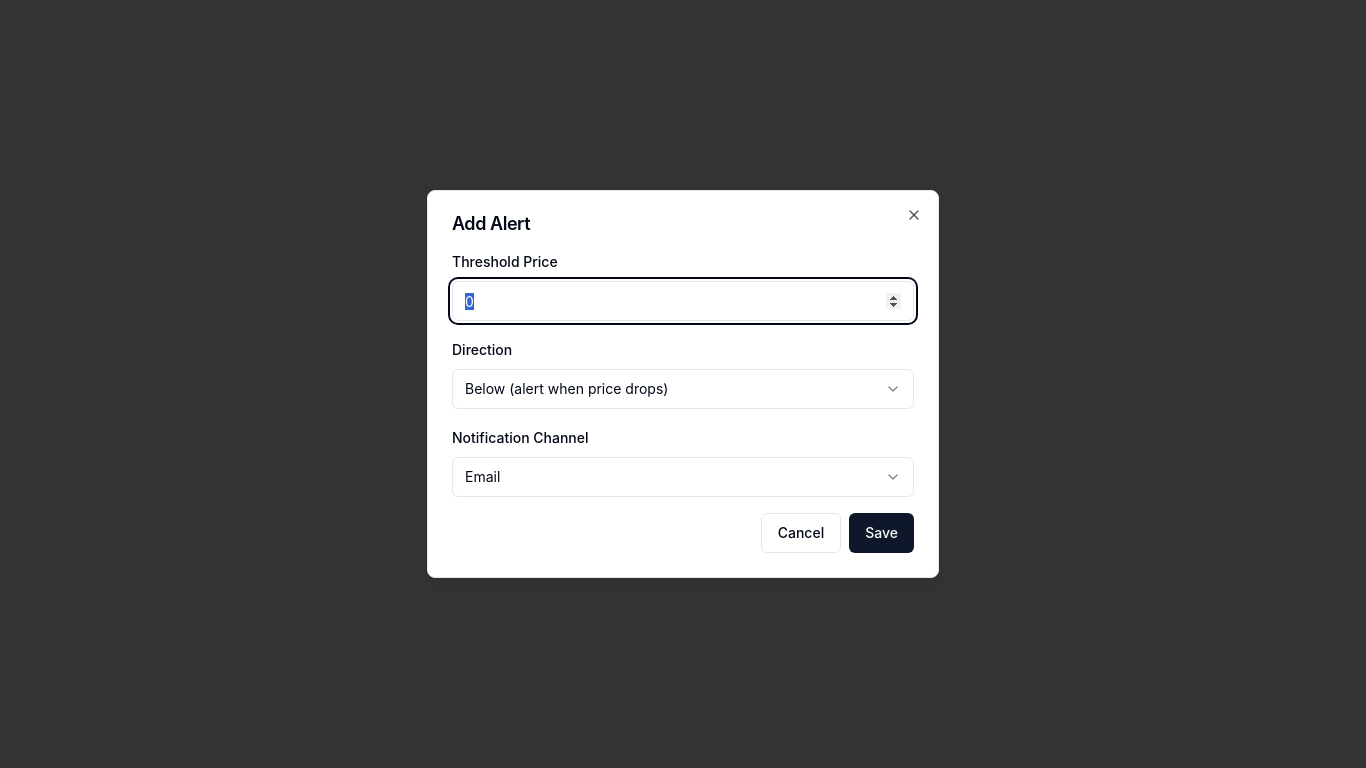
AlertFormDialog › webhook channel — blocks submit when webhook_url is empty
Click the dropdown labelled "Email" at (483, 476), box [452, 457, 914, 497]
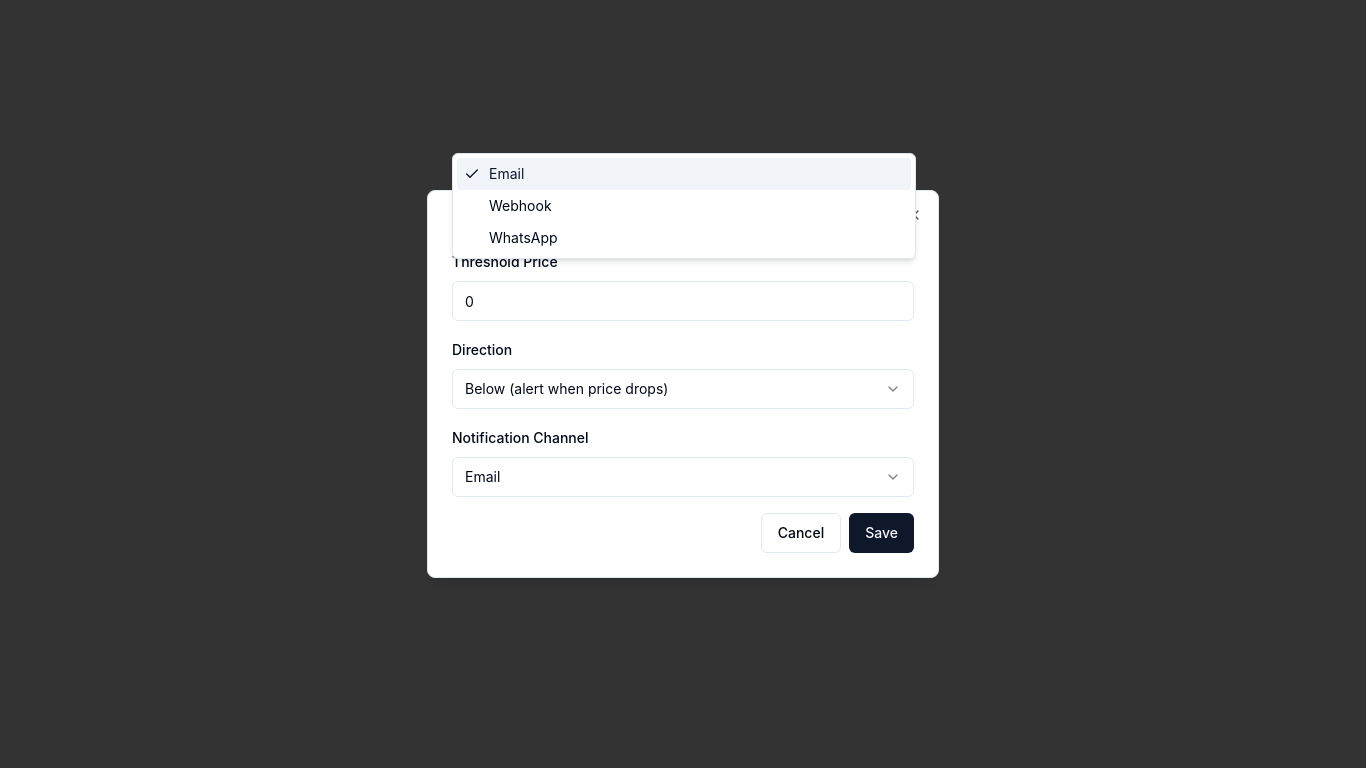
Click the option "Webhook" at (520, 206), box [489, 197, 552, 214]
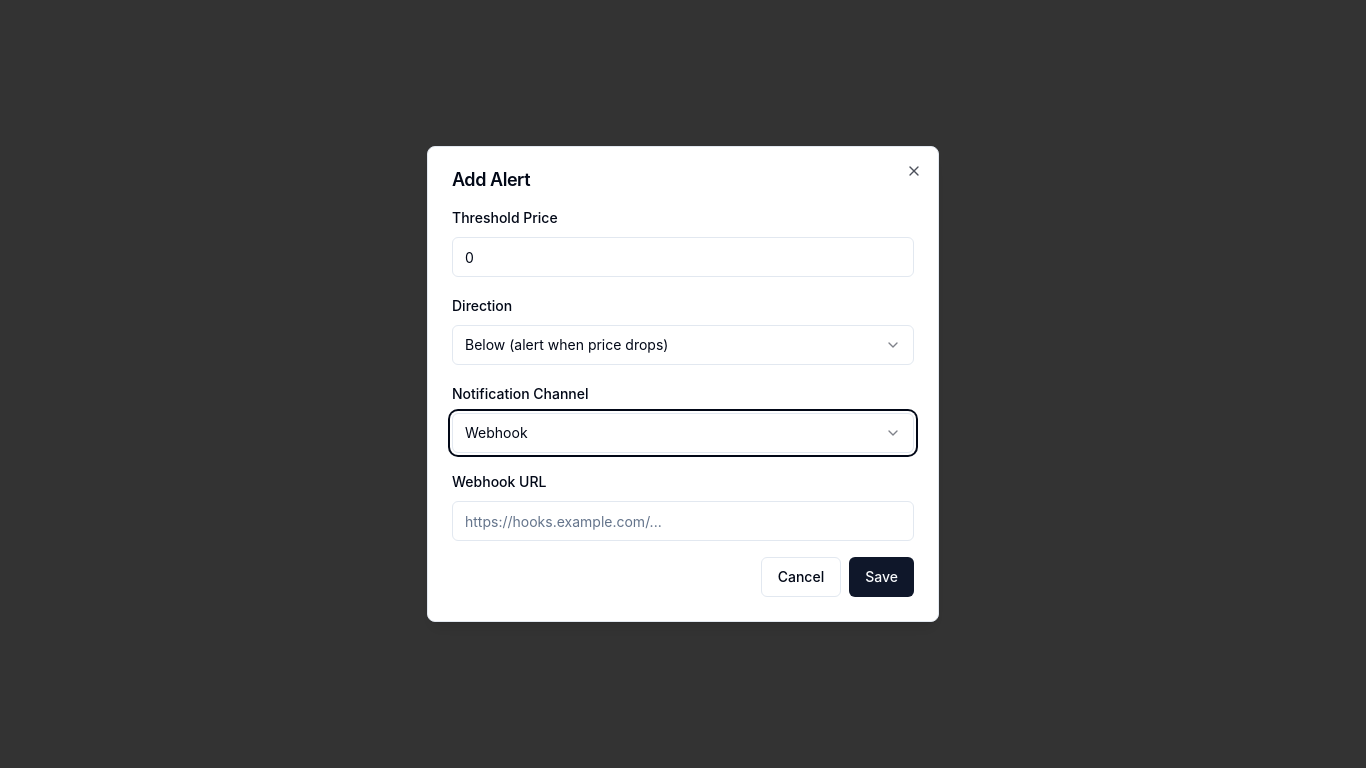
Replace the text in the number field with placeholder "9.99" with "10" at (683, 257), box [452, 237, 914, 277]
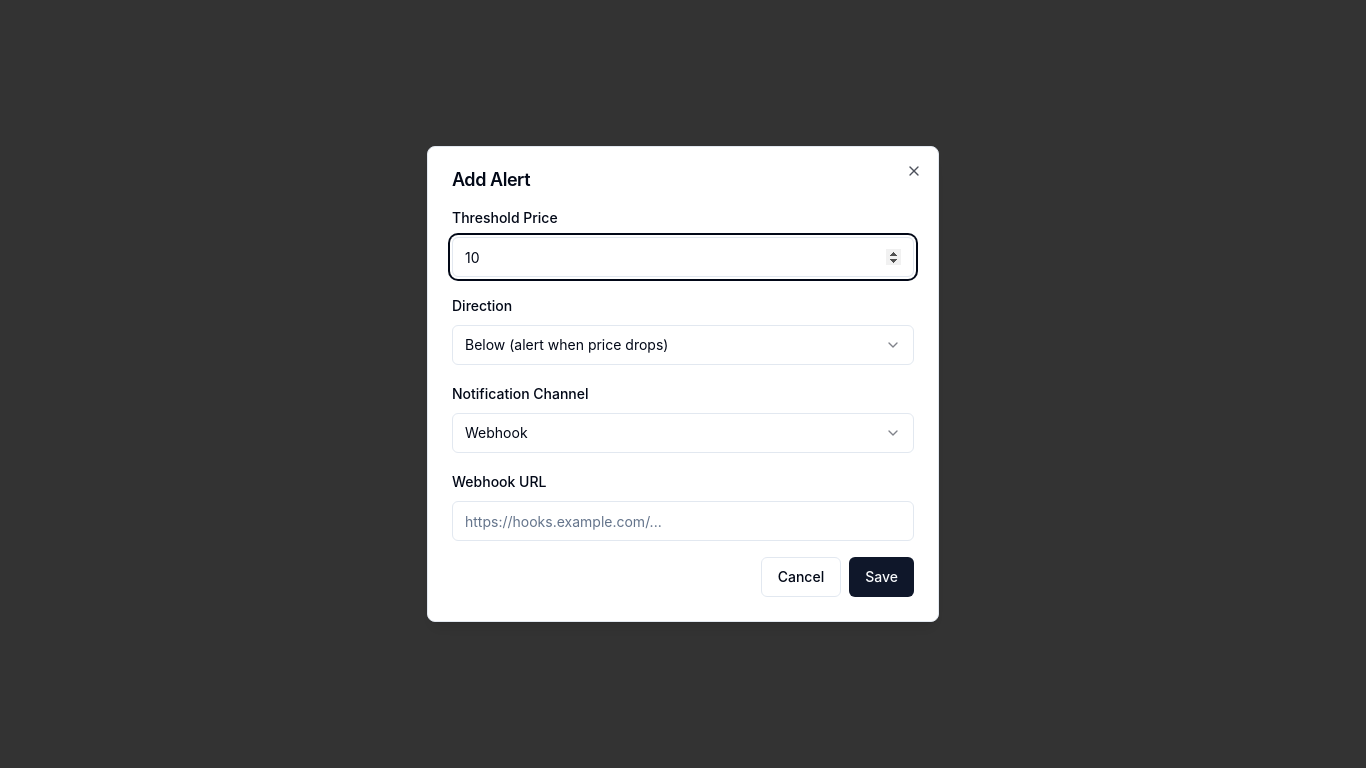
Click the button "Save" at (882, 577), box [849, 557, 914, 597]
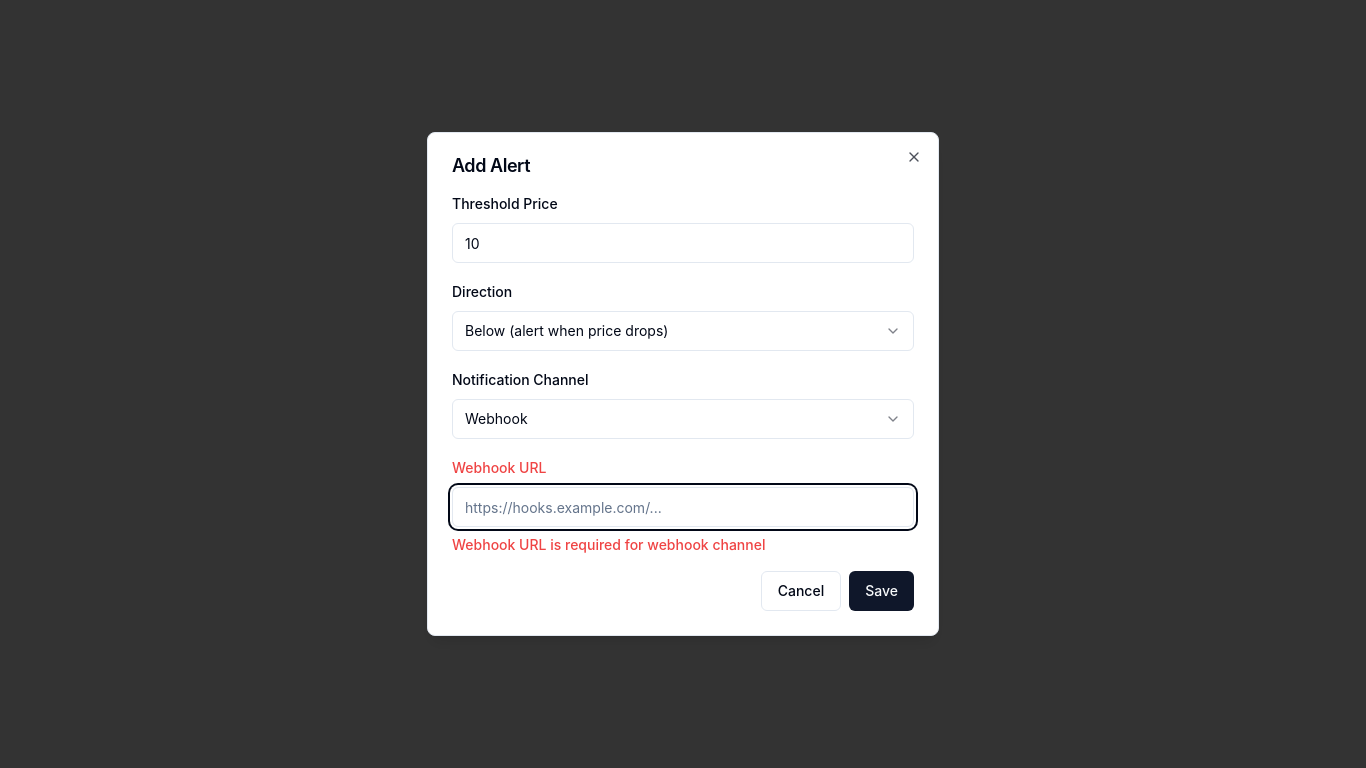
Expected: the text "Webhook URL is required for webhook channel" is shown, [452, 536, 766, 553]
